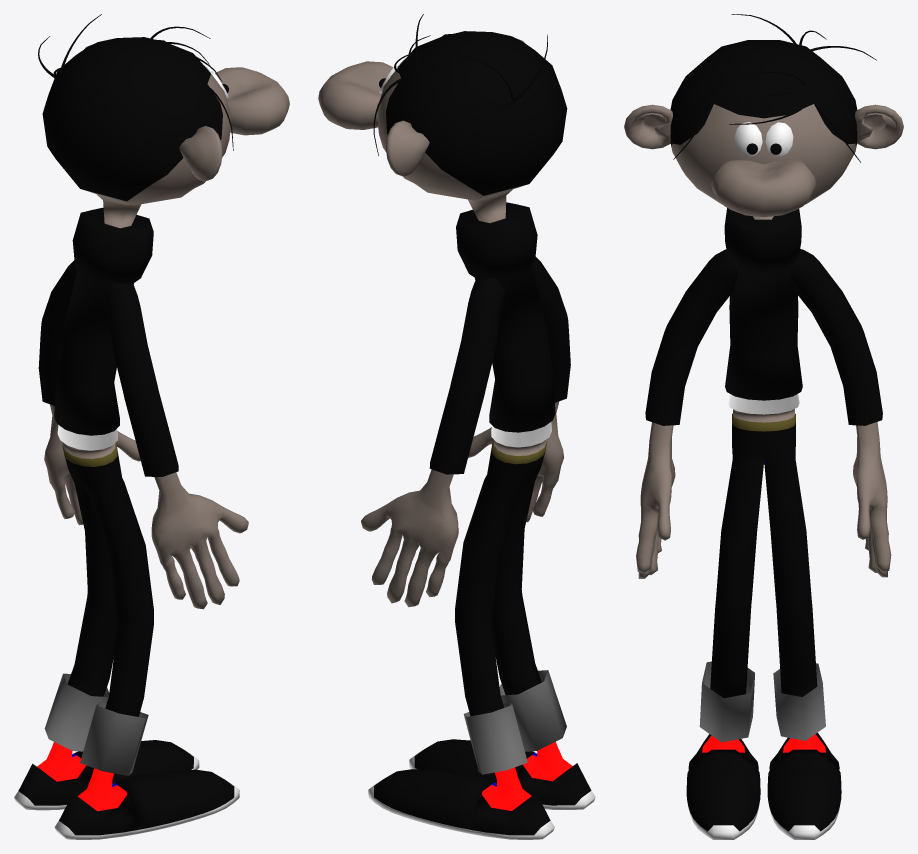
The model's file is spectator_black_short.dae.
3 views of the same model, side by side, from view 1: azimuth 30°, elevation 25°; view 2: azimuth 150°, elevation 25°; view 3: azimuth 270°, elevation 25° (orthographic).
Parts seen in each view (by area): view 1: Spectator; view 2: Spectator; view 3: Spectator.
Boxes of the visible parts, x1,y1,x2,y2 form: Spectator: (14,14,289,839); Spectator: (318,14,595,839); Spectator: (624,14,903,839).
Size of the model in its own units: 0.4 by 0.4 by 1.2.
